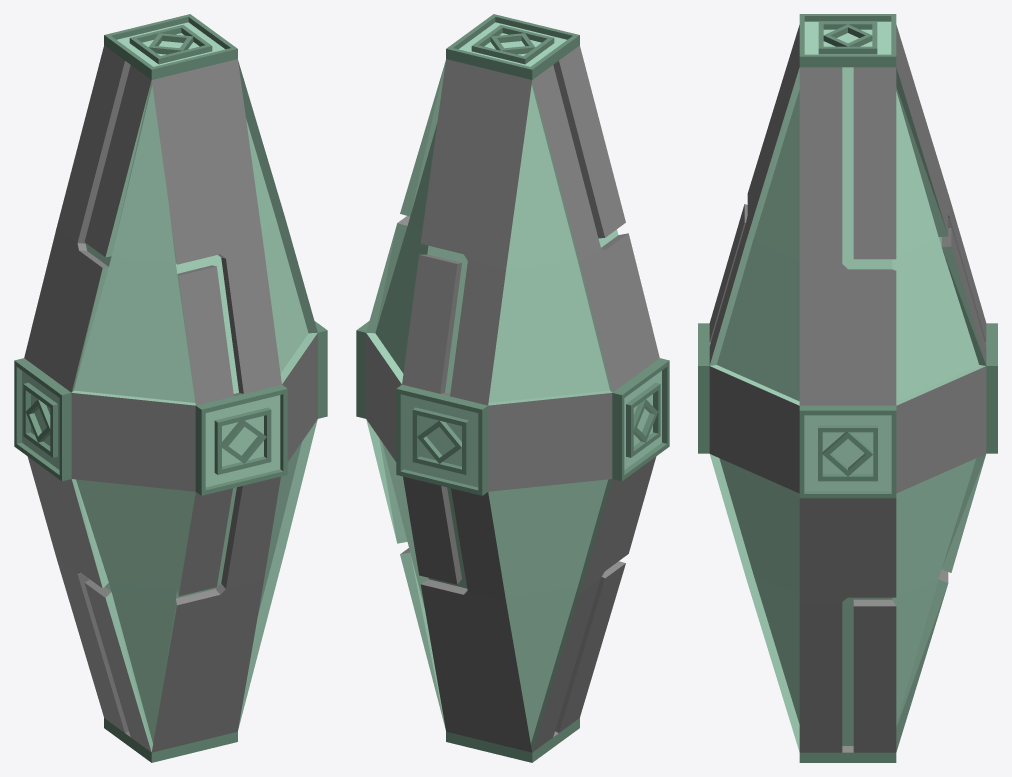
File: Rotatable Turret.fbx
3 renders of one model, left to right at view 1: azimuth 30°, elevation 25°; view 2: azimuth 150°, elevation 25°; view 3: azimuth 270°, elevation 25°, orthographic.
Parts seen in each view (by area): view 1: polySurface1; view 2: polySurface1; view 3: polySurface1.
Part boxes in pixels (x1,y1,x2,y2): polySurface1: [14, 14, 327, 762]; polySurface1: [356, 14, 669, 762]; polySurface1: [698, 14, 997, 762].
Bounding box in the file's own units: 6.22 × 15.51 × 5.97.
